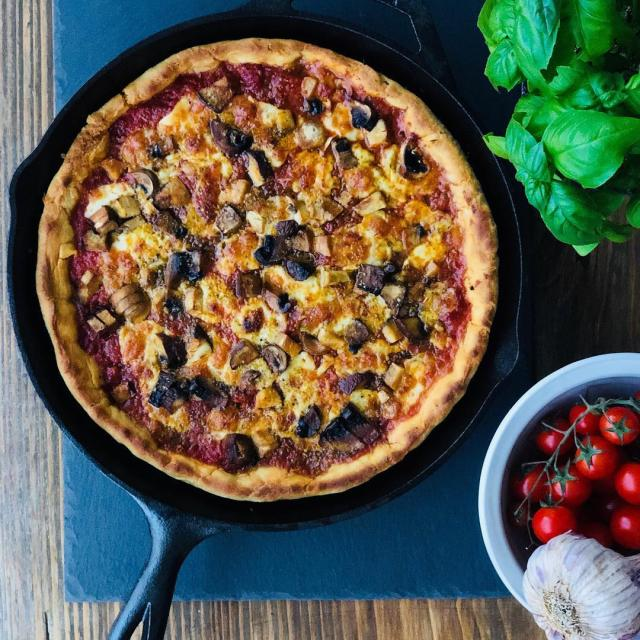mushrooms: (260, 218, 333, 283), (322, 409, 378, 452), (394, 136, 432, 184), (208, 118, 254, 156), (326, 134, 367, 174), (198, 72, 236, 111), (352, 258, 391, 295), (160, 248, 192, 292), (110, 286, 146, 325), (220, 429, 260, 464), (148, 375, 186, 411), (159, 174, 197, 209), (209, 201, 240, 240), (156, 328, 190, 363), (353, 187, 388, 219), (384, 361, 415, 397), (184, 377, 222, 406), (128, 166, 160, 197), (261, 286, 293, 315), (346, 312, 369, 352), (298, 327, 331, 354), (154, 210, 187, 236), (86, 205, 117, 232), (227, 336, 256, 364), (372, 312, 402, 339), (341, 372, 369, 396), (262, 338, 283, 368)
pizza: (32, 38, 501, 506)
